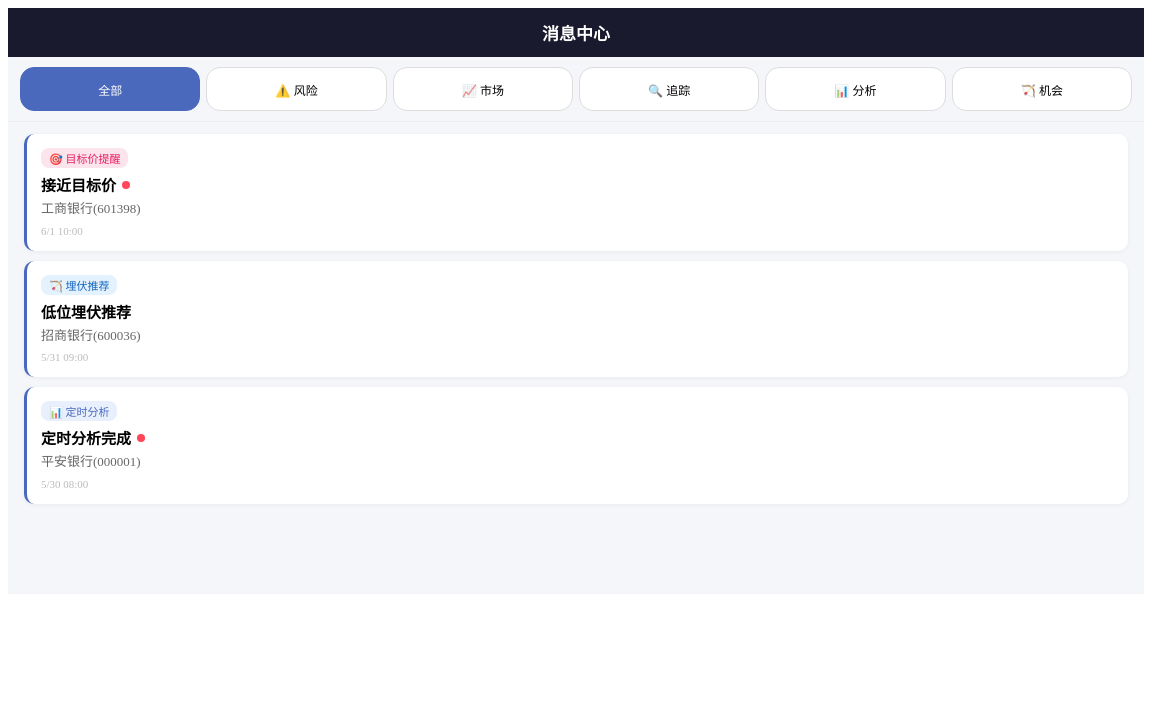
Test: MessageCenterPage › expands message detail on click
This screenshot has width=1152, height=720.
Expected: the text "接近目标价" is shown, [41,178,130,194]
// Click the first message card
Click the button "🎯 目标价提醒 接近目标价 工商银行(601398) 6/1 10:00" at [85, 158], box [24,134,1128,250]
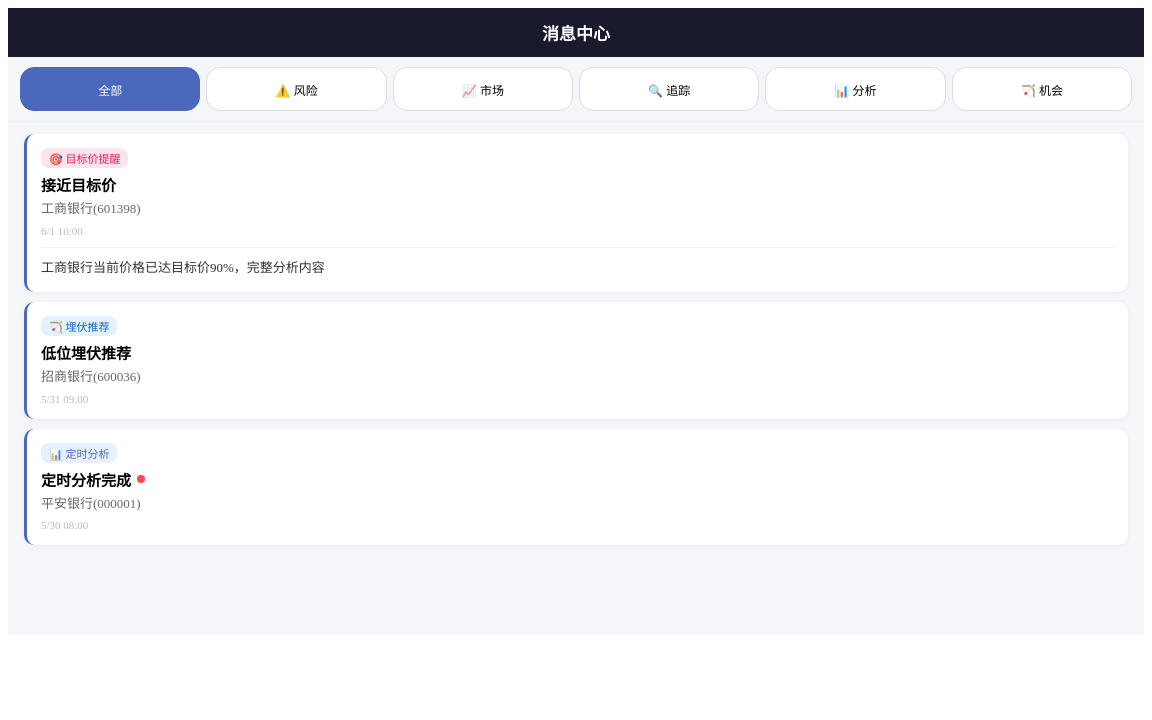
Result: the element with test id "message-detail" is shown at [41,246,1114,278]
Result: the text "工商银行当前价格已达目标价90%，完整分析内容" is shown at [41,260,325,274]
